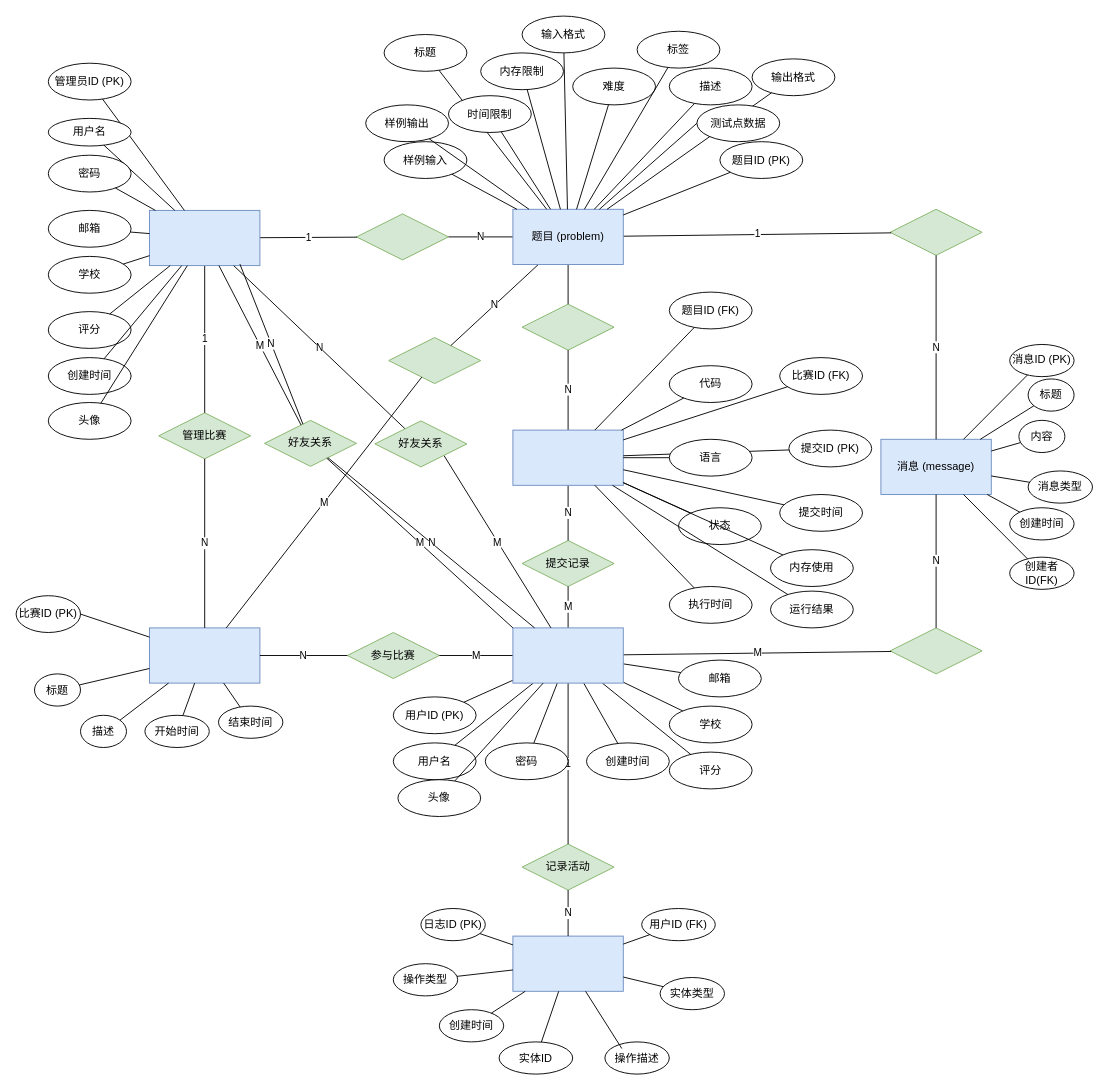
Some shapes in this 1109 by 1090 pixel diagram are drawn without their labels. Each missing label, with the box of its shape:
包含题目: (388, 337, 481, 384)
接收消息: (889, 627, 982, 674)
提交记录 (submission): (512, 429, 623, 485)
比赛 (contest): (149, 627, 260, 683)
活动日志 (activity_log): (512, 935, 623, 991)
用户 (user): (512, 627, 623, 683)
管理员 (admin ): (149, 209, 260, 266)
管理题目: (356, 213, 448, 260)
题目提交: (521, 303, 614, 350)
题目讨论: (889, 208, 982, 255)
